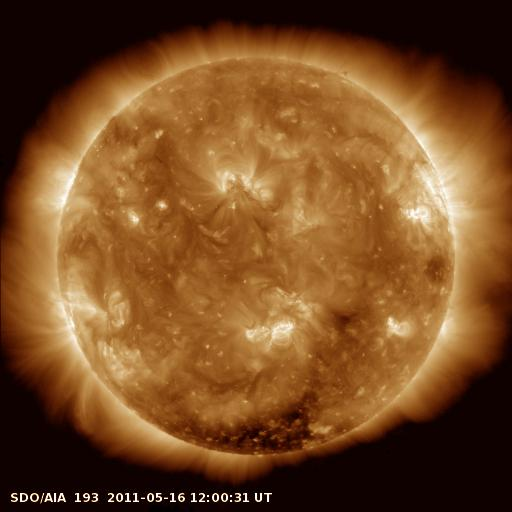coronal_hole: (158, 387, 329, 456), (422, 247, 454, 294), (321, 306, 363, 341)
